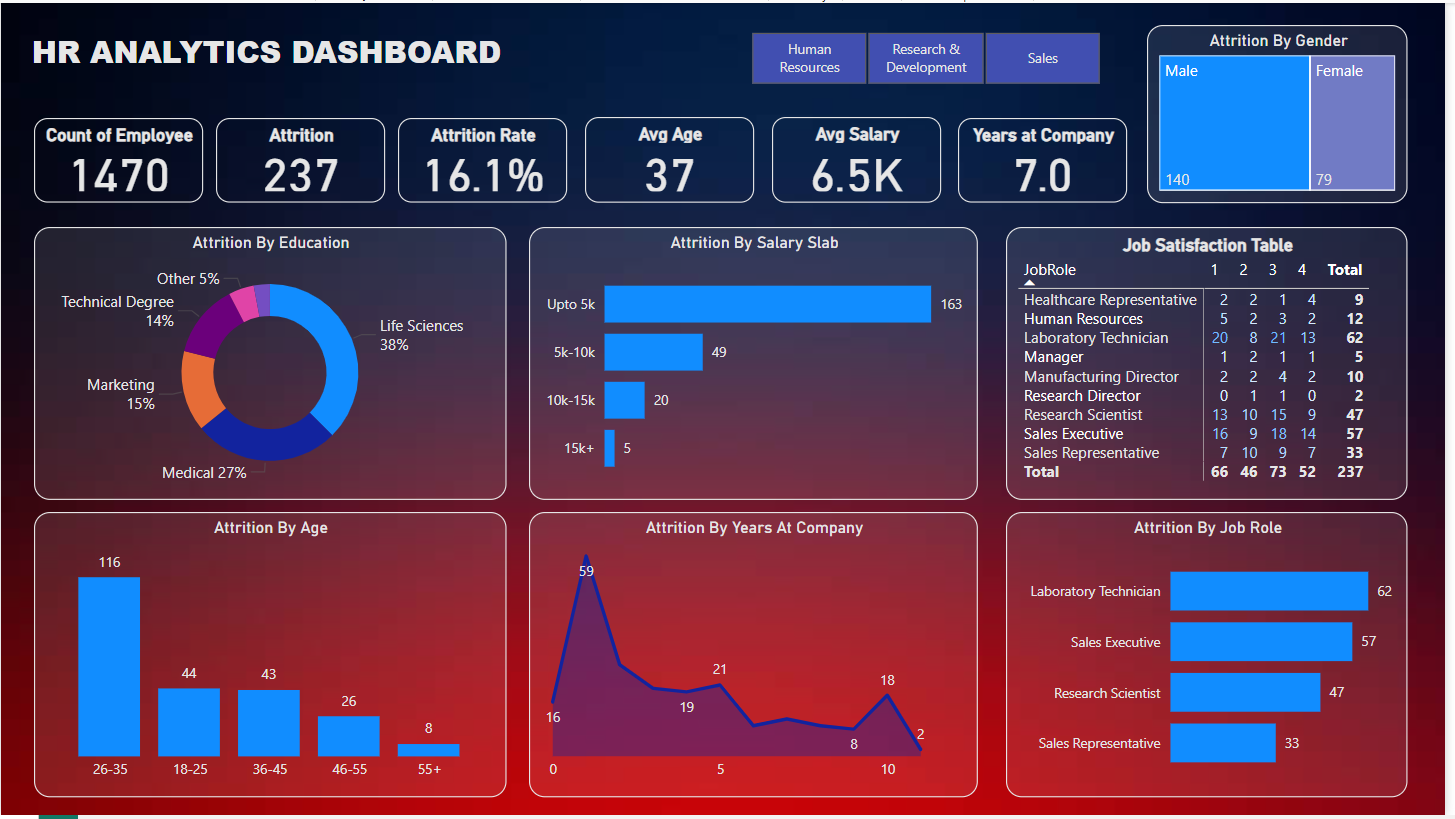

This screenshot's page, from the dashboard's own definition file:
{"tool":"powerbi","page":{"name":"Page 1","canvas":[1280,720],"ordinal":0},"visuals":[{"type":"card","title":"Count of Employee","fields":{"Values":["CountNonNull(HR_Analytics.EmpID)"]},"box":[29.3,102,149.9,75.4],"z":0},{"type":"card","title":"Attrition","fields":{"Values":["Sum(HR_Analytics.AttritionCount)"]},"box":[190.6,102,149.9,75.4],"z":1000},{"type":"card","title":"Attrition Rate","fields":{"Values":["HR_Analytics.AttritionRate"]},"box":[352,102,149.9,75.4],"z":2000},{"type":"card","title":"Avg Age","fields":{"Values":["Avg(HR_Analytics.Age)"]},"box":[517.8,101.1,149.9,76.3],"z":3000},{"type":"card","title":"Avg Salary","fields":{"Values":["Avg(HR_Analytics.MonthlyIncome)"]},"box":[683.6,101.1,149.9,76.3],"z":4000},{"type":"card","title":"Years at Company","fields":{"Values":["Avg(HR_Analytics.YearsAtCompany)"]},"box":[848.6,102,149.9,75.4],"z":5000},{"type":"donutChart","title":"Attrition By Education","fields":{"Category":["HR_Analytics.EducationField"],"Y":["Sum(HR_Analytics.AttritionCount)"]},"box":[29.3,198.6,418.5,242.1],"z":6000},{"type":"barChart","title":"Attrition By Salary Slab","fields":{"Category":["HR_Analytics.SalarySlab"],"Y":["Sum(HR_Analytics.AttritionCount)"]},"box":[468.2,198.6,398.1,242.1],"z":7000},{"type":"pivotTable","title":"Job Satisfaction Table","fields":{"Rows":["HR_Analytics.JobRole"],"Columns":["HR_Analytics.JobSatisfaction"],"Values":["Sum(HR_Analytics.AttritionCount)"]},"box":[891.1,198.6,356.5,242.1],"z":8000},{"type":"columnChart","title":"Attrition By Age","fields":{"Category":["HR_Analytics.AgeGroup"],"Y":["Sum(HR_Analytics.AttritionCount)"]},"box":[29.3,451.3,418.5,252.7],"z":9000},{"type":"barChart","title":"Attrition By Job Role","fields":{"Category":["HR_Analytics.JobRole"],"Y":["Sum(HR_Analytics.AttritionCount)"]},"box":[891.1,451.3,356.5,252.7],"z":10000},{"type":"areaChart","title":"Attrition By Years At Company","fields":{"Category":["HR_Analytics.YearsAtCompany"],"Y":["Sum(HR_Analytics.AttritionCount)"]},"box":[468.2,451.3,398.1,252.7],"z":11000},{"type":"treemap","title":"Attrition By Gender","fields":{"Group":["HR_Analytics.Gender"],"Values":["Sum(HR_Analytics.AttritionCount)"]},"box":[1016.2,19.5,231.4,157.8],"z":12000},{"type":"slicer","fields":{"Values":["HR_Analytics.Department"]},"box":[640.2,19.5,358.2,58.5],"z":13000},{"type":"textbox","box":[22.2,19.5,446,48.8],"z":14000}]}

Visuals, with their boxes in screenshot pixels (x1, y1, x2, y2), scaled from the page's 1280x720 canvas onto the 1455x819 screenshot:
"Count of Employee" card: l=33, t=116, r=204, b=202
"Attrition" card: l=217, t=116, r=387, b=202
"Attrition Rate" card: l=400, t=116, r=571, b=202
"Avg Age" card: l=589, t=115, r=759, b=202
"Avg Salary" card: l=777, t=115, r=947, b=202
"Years at Company" card: l=965, t=116, r=1135, b=202
"Attrition By Education" donutChart: l=33, t=226, r=509, b=501
"Attrition By Salary Slab" barChart: l=532, t=226, r=985, b=501
"Job Satisfaction Table" pivotTable: l=1013, t=226, r=1418, b=501
"Attrition By Age" columnChart: l=33, t=513, r=509, b=801
"Attrition By Job Role" barChart: l=1013, t=513, r=1418, b=801
"Attrition By Years At Company" areaChart: l=532, t=513, r=985, b=801
"Attrition By Gender" treemap: l=1155, t=22, r=1418, b=202
slicer - HR_Analytics.Department: l=728, t=22, r=1135, b=89
textbox: l=25, t=22, r=532, b=78
